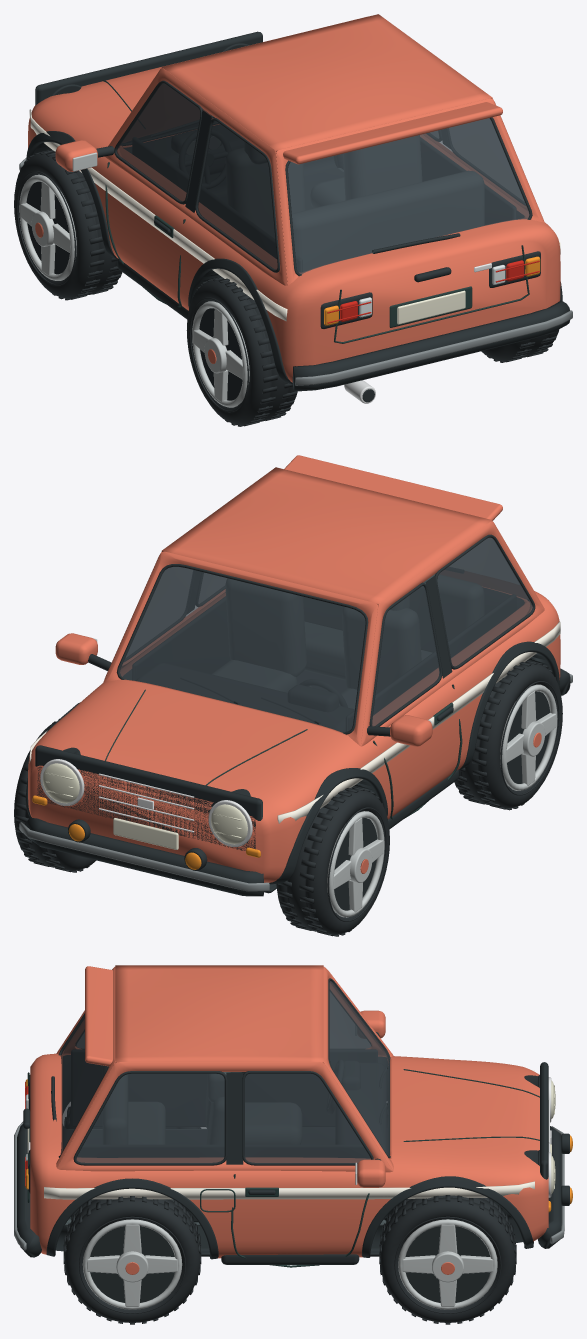
Rendered from bramble.fbx.
3 views of the same model, one above another, from view 1: azimuth 30°, elevation 25°; view 2: azimuth 150°, elevation 25°; view 3: azimuth 270°, elevation 25° (orthographic). The views are drawn at different scales.
Parts seen in each view (by area): view 1: Body, Wheel_RL_Mesh, Wheel_FL_Mesh, Wheel_RR_Mesh; view 2: Body, Wheel_FL_Mesh, Wheel_RL_Mesh, Wheel_FR_Mesh; view 3: Body, Wheel_FR_Mesh, Wheel_RR_Mesh.
Boxes of the visible parts, x1,y1,x2,y2 form: Body: (19, 14, 572, 403); Wheel_RL_Mesh: (186, 277, 297, 426); Wheel_FL_Mesh: (14, 150, 122, 300); Wheel_RR_Mesh: (481, 282, 562, 362); Body: (19, 455, 572, 896); Wheel_FL_Mesh: (276, 786, 389, 936); Wheel_RL_Mesh: (454, 660, 562, 810); Wheel_FR_Mesh: (14, 719, 96, 872); Body: (14, 965, 572, 1267); Wheel_FR_Mesh: (379, 1195, 516, 1324); Wheel_RR_Mesh: (63, 1196, 201, 1324).
Bounding box in the file's own units: 227 × 162 × 328.
